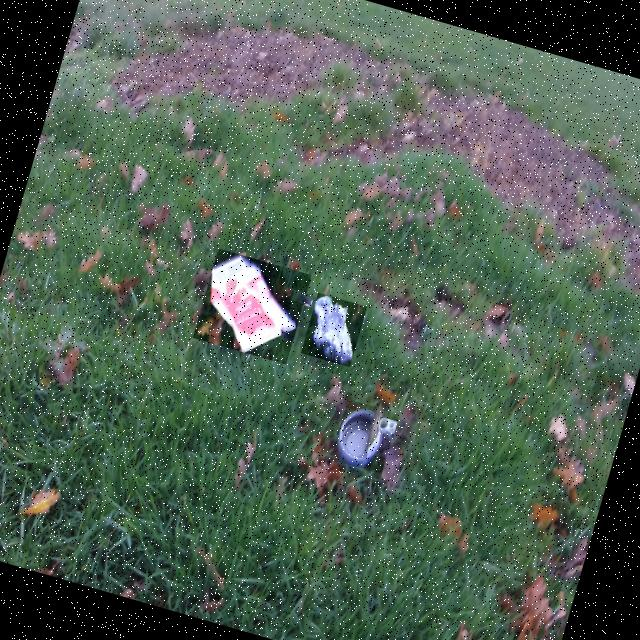Aluminium foil: (312, 295, 353, 365)
Drink carton: (210, 254, 296, 352)
Food Can: (337, 408, 395, 467)
Plastic straw: (292, 290, 310, 306)
Pop tab: (377, 419, 395, 431)
